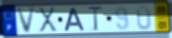0: (135, 4, 152, 31)
9: (114, 6, 131, 31)
A: (63, 7, 87, 32)
T: (86, 6, 104, 33)
V: (16, 6, 37, 35)
X: (38, 6, 59, 33)
